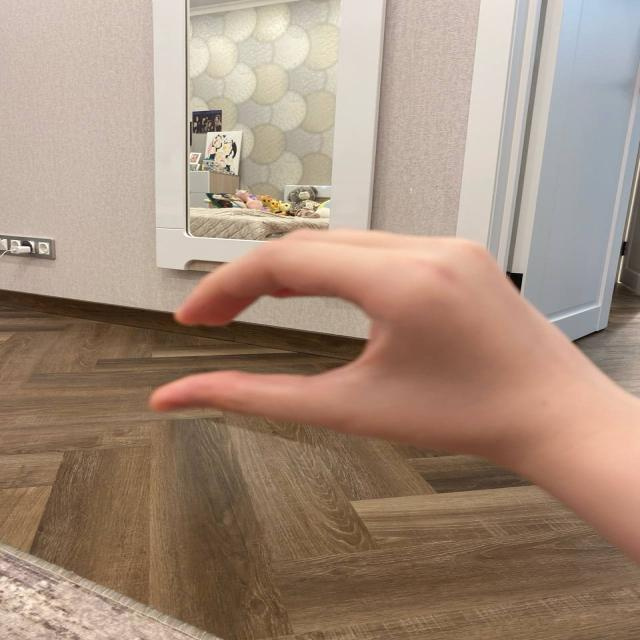s: (140, 216, 551, 502)
